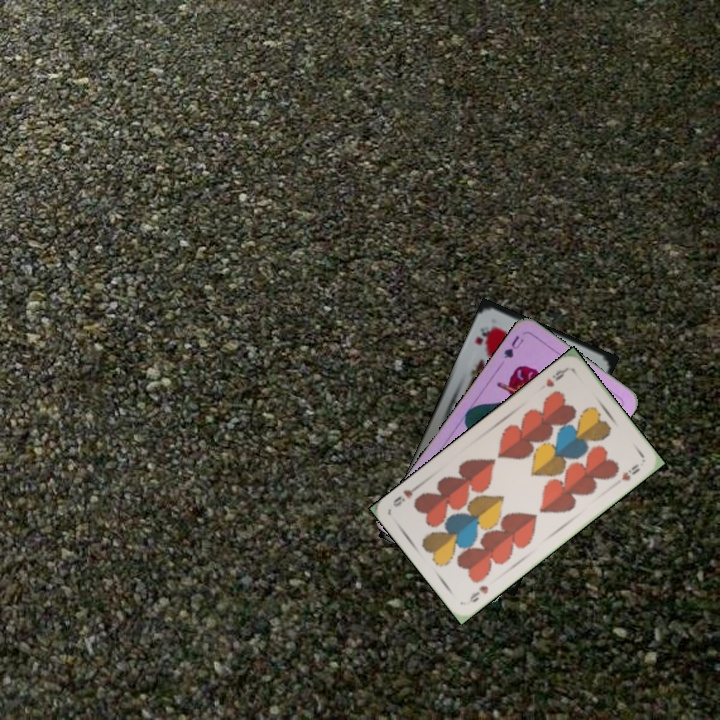GU: (500, 331, 526, 361)
H9: (542, 364, 570, 390), (465, 581, 491, 605)
HK: (471, 321, 495, 347)
